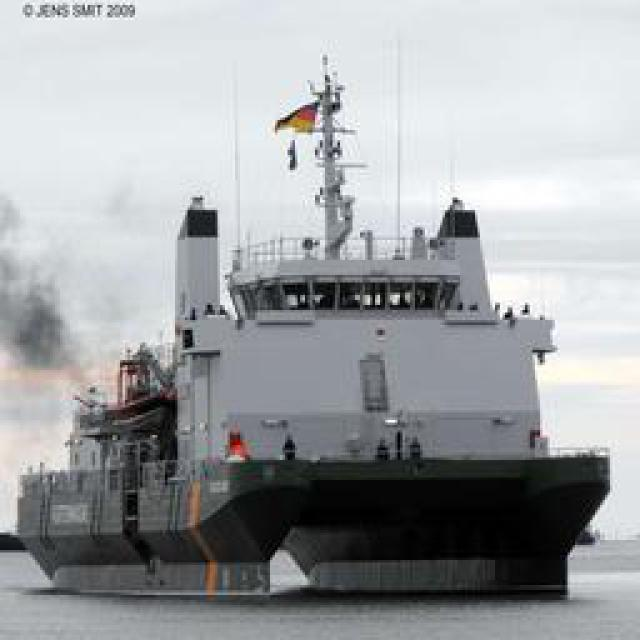Ship: (46, 108, 609, 586)
